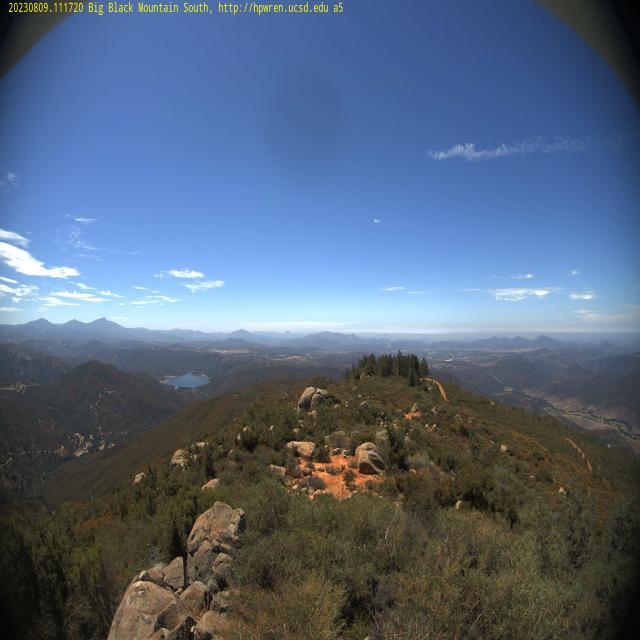smoke: (384, 335, 393, 352)
